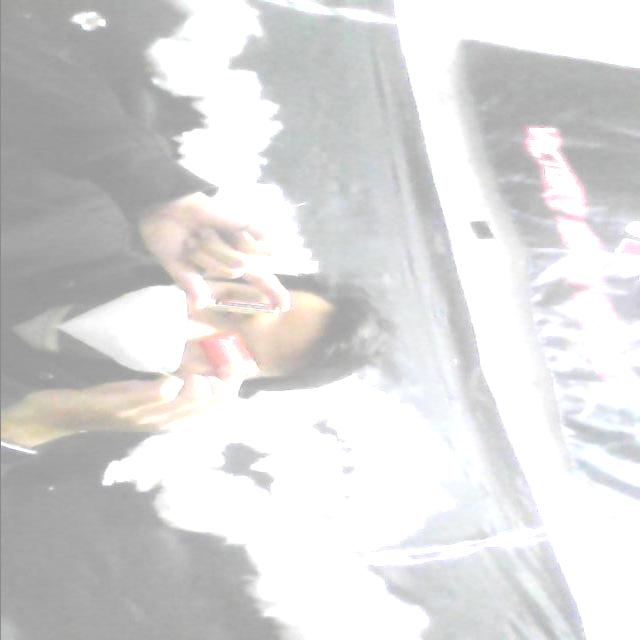9V: (192, 333, 268, 386)
AAA: (192, 293, 288, 319)
